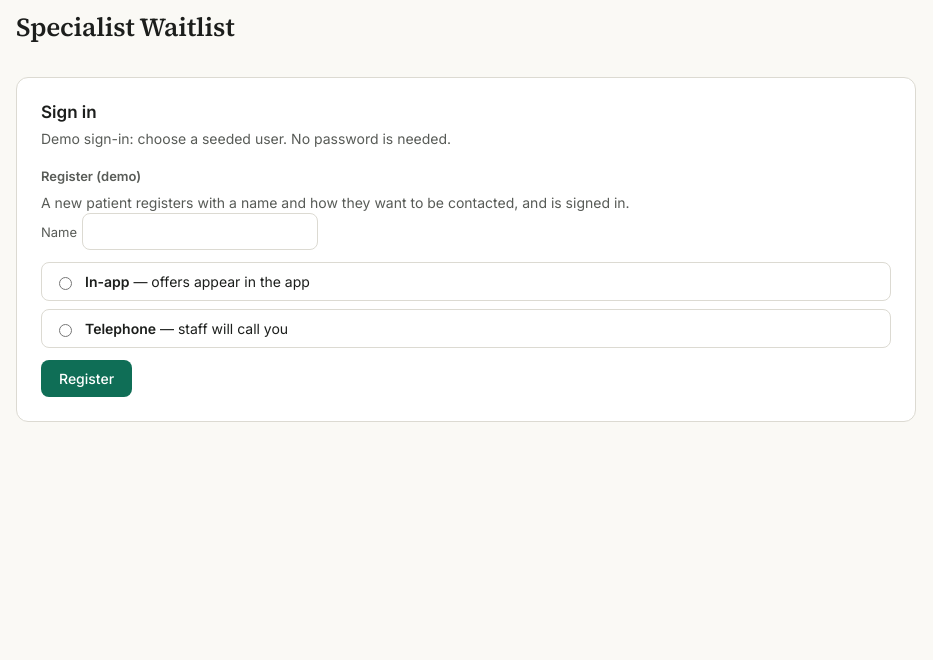
it: demo registration on the sign-in screen (9.1) › creates nothing and says what is missing for no preference
The width and height of the screenshot is (933, 660).
Expected: the heading "Register (demo)" is shown, [41,168,141,184]
Type "Lucía Fernández" into the field labelled "Name" at {"x": 200, "y": 232}, box [82,213,318,250]
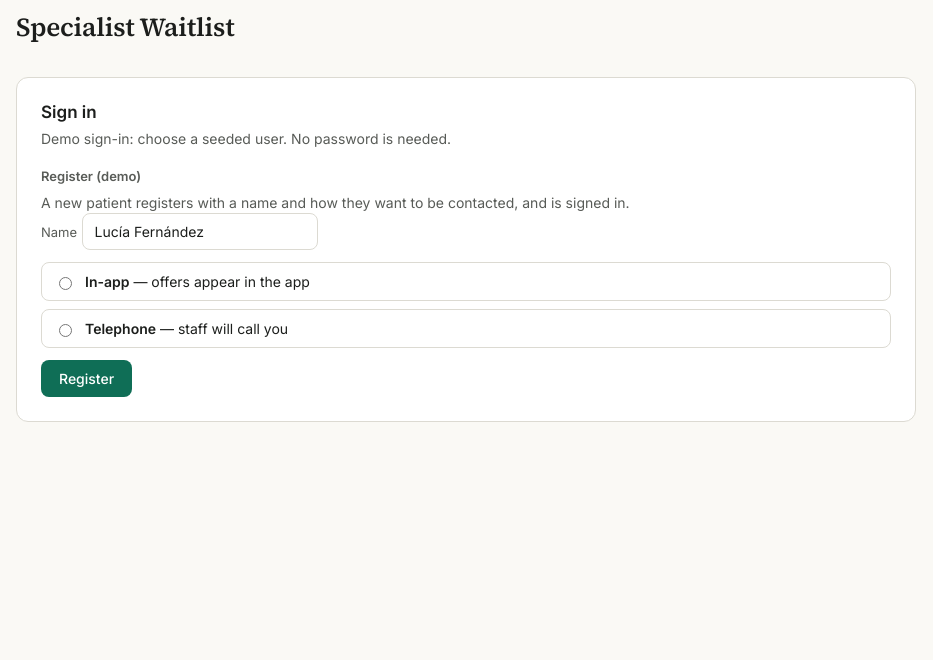
Click the button "Register" at {"x": 87, "y": 379}, box [41,360,132,397]
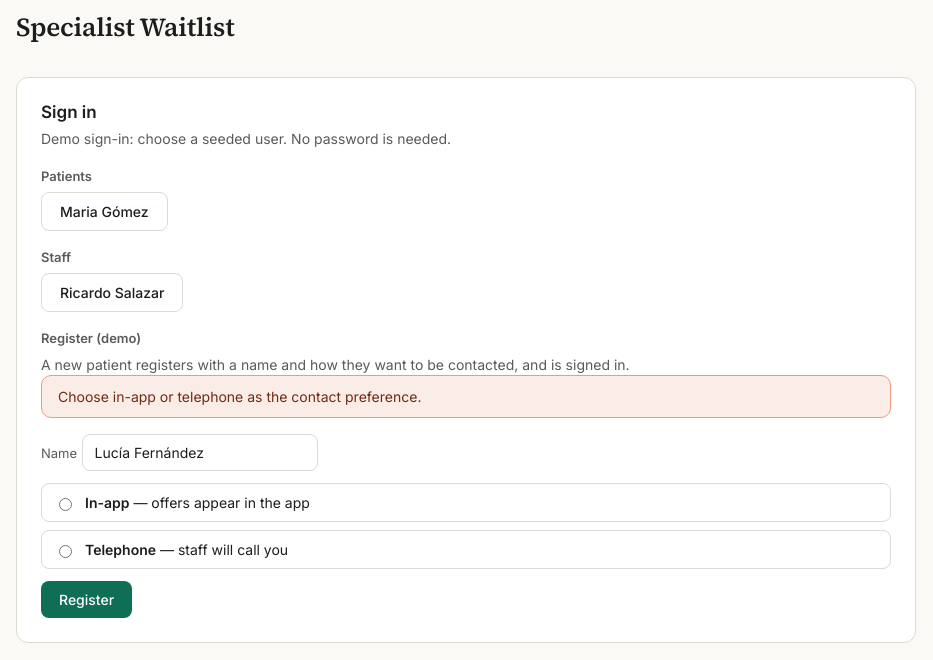
Now the message shows "Choose in-app or telephone", box [58,388,421,405]
